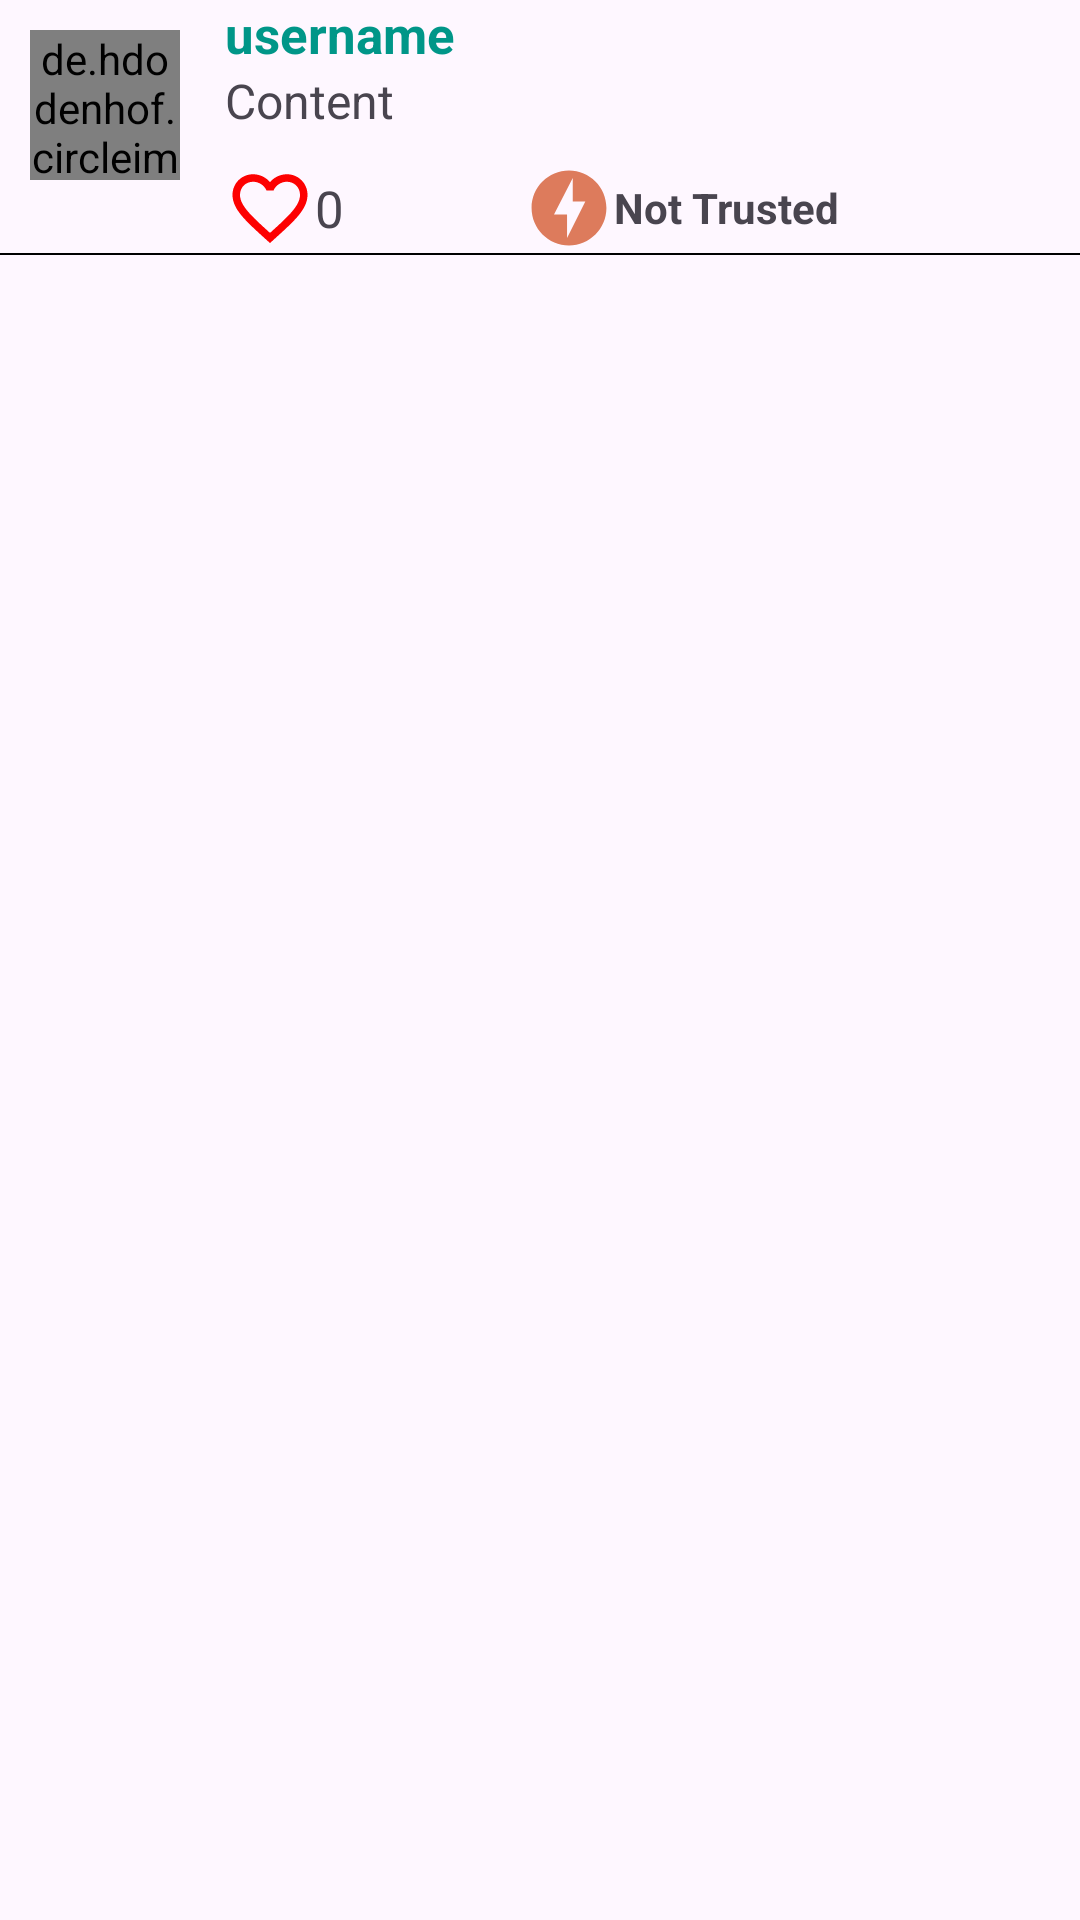

Point at icon controls on the screen. Image size 1080*1920, points as (x=x, y=y).
likes: (x=270, y=208)
